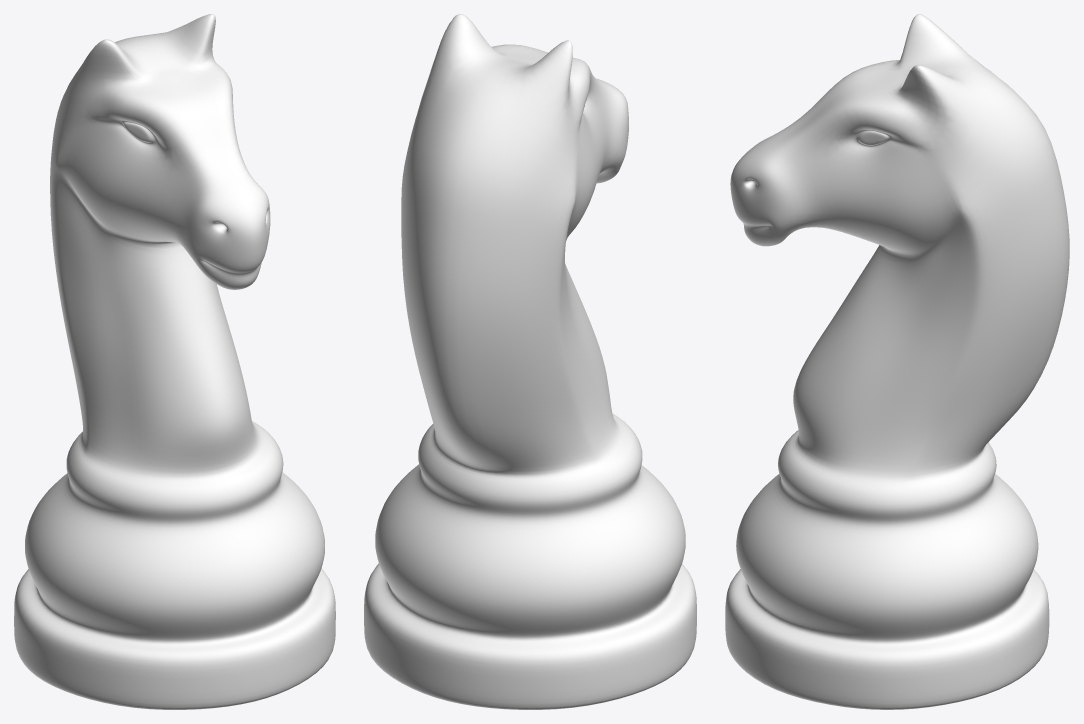
The model's file is Knight.obj.
The picture shows the model from 3 angles, left to right: view 1: azimuth 30°, elevation 25°; view 2: azimuth 150°, elevation 25°; view 3: azimuth 270°, elevation 25°; orthographic projection. The views are drawn at different scales.
Parts seen in each view (by area): view 1: Horse; view 2: Horse; view 3: Horse.
Part boxes in pixels (box(x1,y1,x2,y2)): Horse: box(14, 14, 335, 709); Horse: box(364, 14, 696, 709); Horse: box(725, 14, 1069, 709).
Size of the model in its own units: 0.6067 by 1.25 by 0.645.
1 material, 1 textured.
